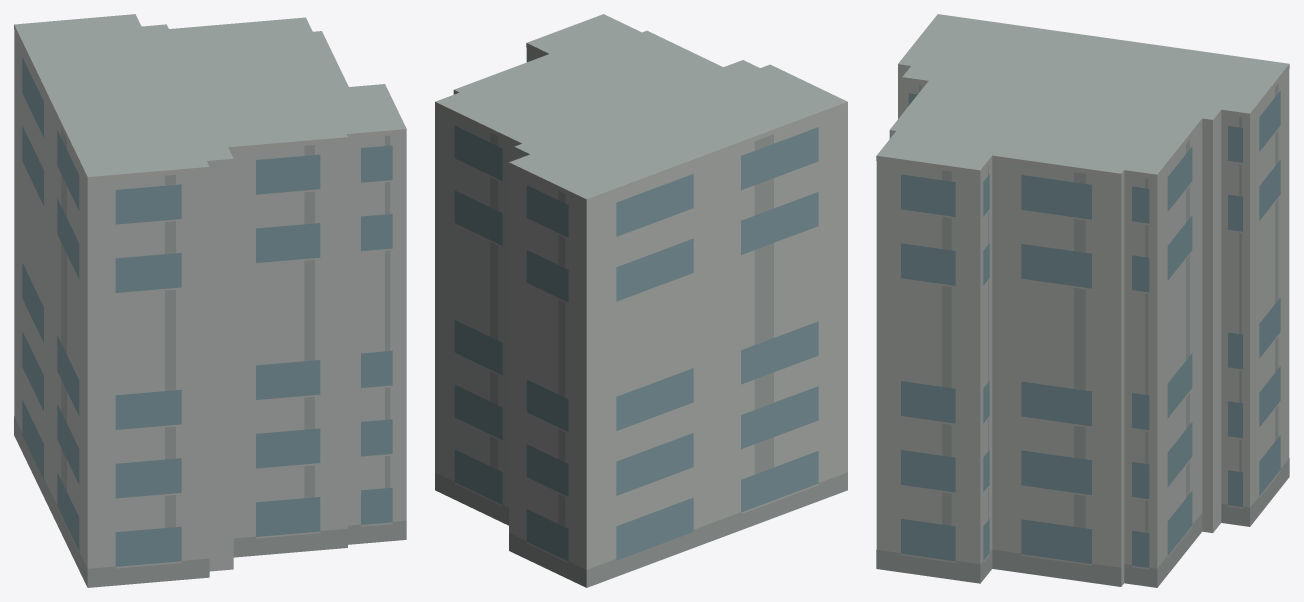
The model's file is survey-upis-32979816.glb.
3 renders of one model, left to right at view 1: azimuth 30°, elevation 25°; view 2: azimuth 150°, elevation 25°; view 3: azimuth 270°, elevation 25°, orthographic. The views are drawn at different scales.
Visible parts, largest first — view 1: survey-upis-32979816.tmp; view 2: survey-upis-32979816.tmp; view 3: survey-upis-32979816.tmp.
Boxes of the visible parts, x1,y1,x2,y2 form: survey-upis-32979816.tmp: (14, 14, 406, 587); survey-upis-32979816.tmp: (435, 14, 847, 587); survey-upis-32979816.tmp: (876, 14, 1289, 587).
Bounding box in the file's own units: 16.44 × 19.7 × 17.86.
